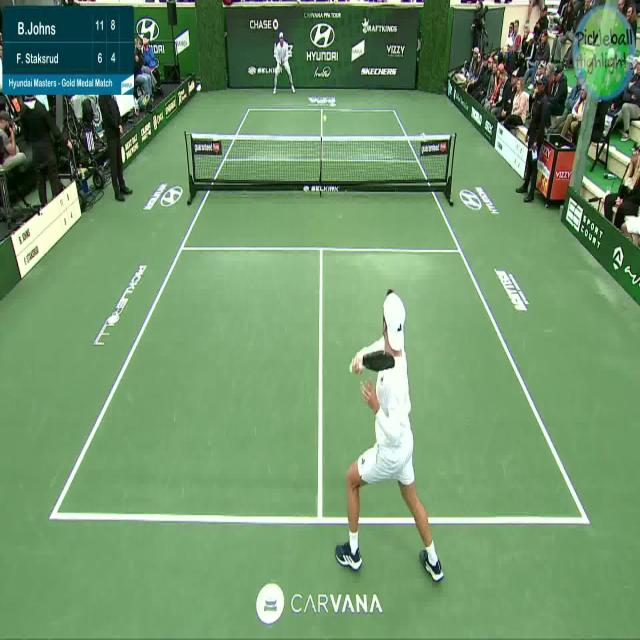ball: (322, 112, 330, 130)
